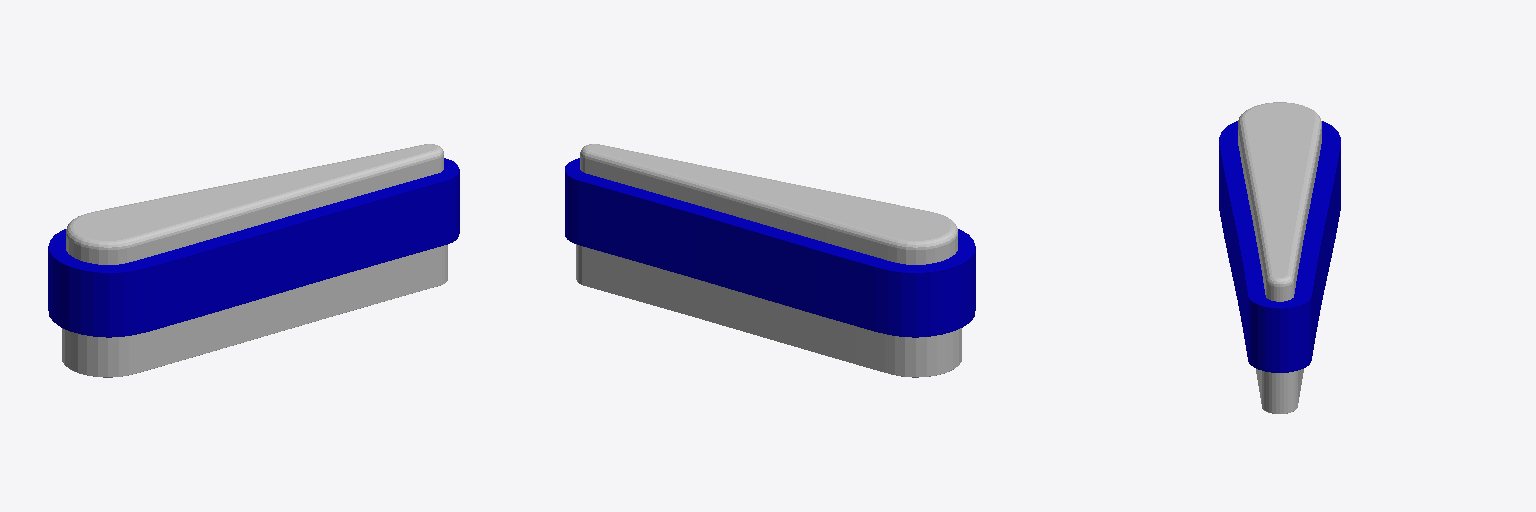
File: Flippers2.obj
3 views of the same model, side by side, from view 1: azimuth 30°, elevation 25°; view 2: azimuth 150°, elevation 25°; view 3: azimuth 270°, elevation 25° (orthographic).
Parts seen in each view (by area): view 1: Flipper_3"; view 2: Flipper_3"; view 3: Flipper_3".
Part boxes in pixels (x1,y1,x2,y2): Flipper_3": (48,144,459,377); Flipper_3": (565,144,975,377); Flipper_3": (1219,102,1340,413).
Size of the model in its own units: 0.0801 by 0.0254 by 0.0212.